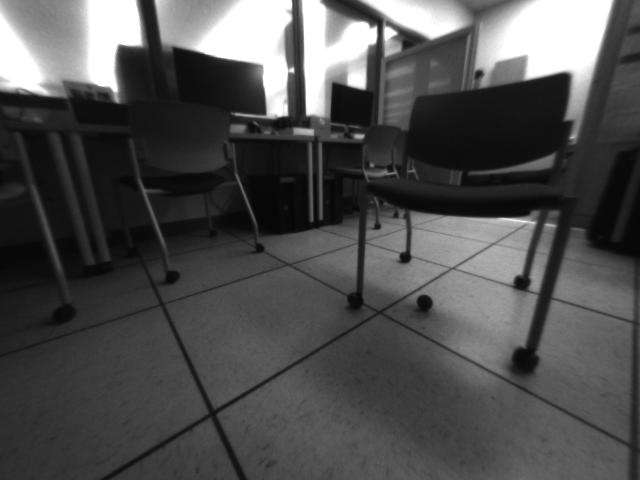dogtoy: (413, 289, 437, 315)
